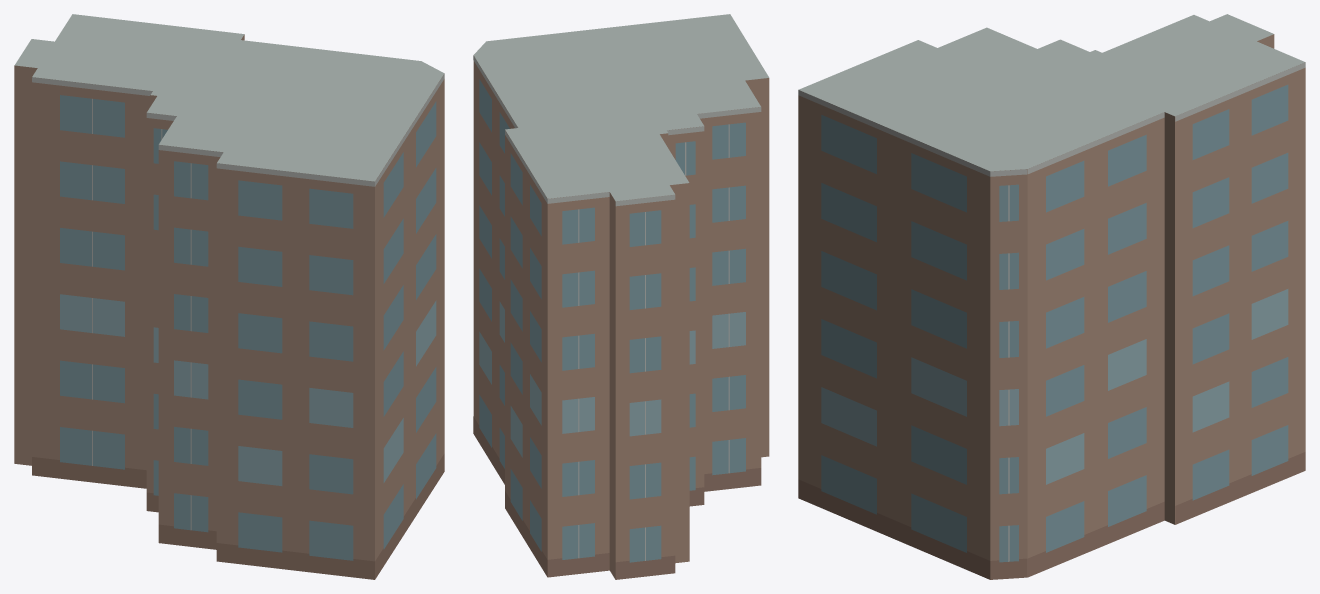
File: survey-upis-33000899.glb
3 views of the same model, side by side, from view 1: azimuth 30°, elevation 25°; view 2: azimuth 150°, elevation 25°; view 3: azimuth 270°, elevation 25° (orthographic). The views are drawn at different scales.
Visible parts, largest first — view 1: survey-upis-33000899.tmp; view 2: survey-upis-33000899.tmp; view 3: survey-upis-33000899.tmp.
Boxes of the visible parts, box(x1,y1,x2,y2) form: survey-upis-33000899.tmp: box(14, 14, 444, 579); survey-upis-33000899.tmp: box(473, 14, 769, 579); survey-upis-33000899.tmp: box(798, 14, 1305, 579).
Size of the model in its own units: 15.13 by 18.3 by 20.6.
